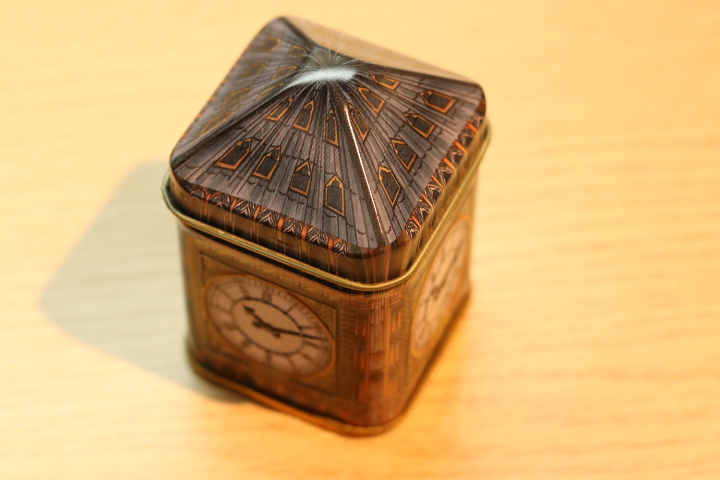Big Ben: (130, 6, 534, 455)
